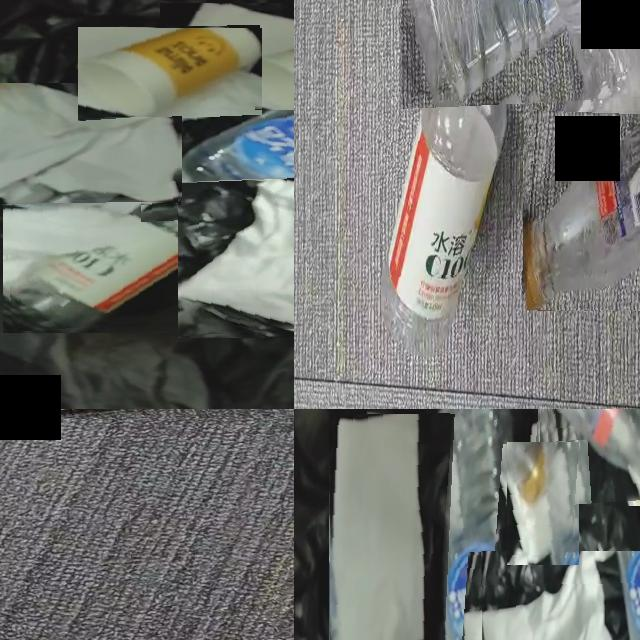bottle: (381, 0, 527, 354), (9, 185, 287, 329), (438, 409, 529, 640), (525, 130, 640, 310), (141, 101, 294, 221), (418, 0, 564, 109), (554, 409, 640, 486)
dixie_cup: (78, 28, 262, 118)
paper: (0, 83, 182, 203), (335, 414, 427, 640), (178, 186, 294, 328), (161, 3, 294, 111), (482, 551, 612, 640), (507, 442, 574, 565)
